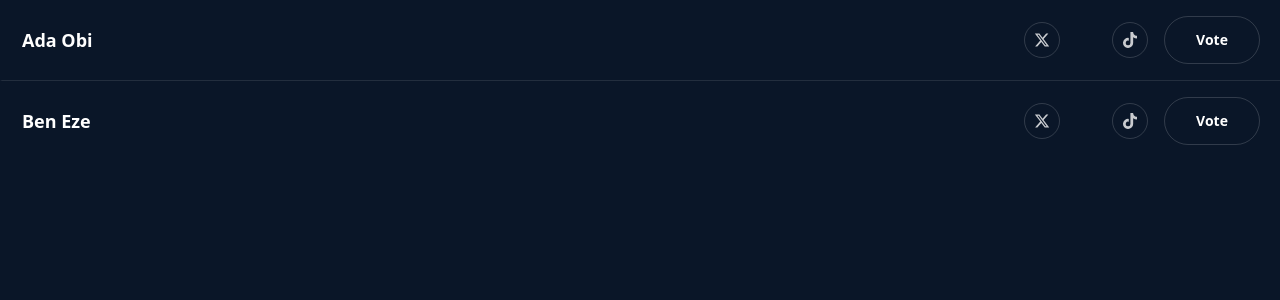
Test: BallotRow › keeps one form open: opening another row closes the first, without moving focus back
This screenshot has width=1280, height=300.
What coordinates should you click on to do the following:
click the button with aria-label "Vote for Ada Obi"
I would click on:
 (1212, 40)
Its box is top-left (1164, 16), bottom-right (1260, 64).
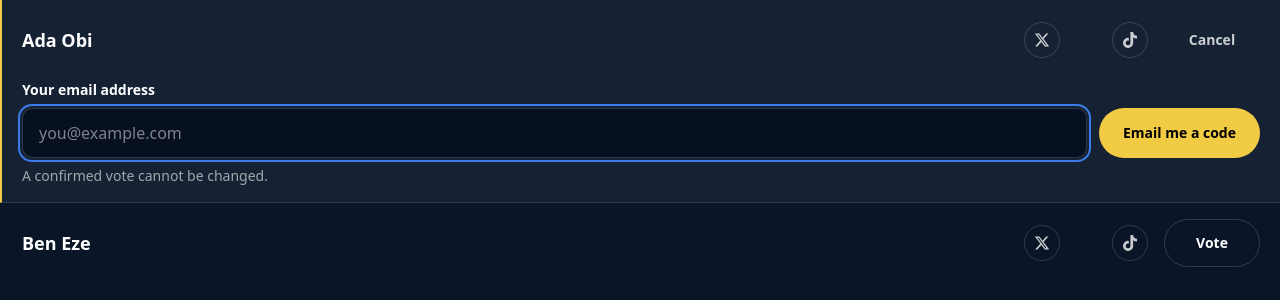
What coordinates should you click on to do the following:
click the button "Vote"
I would click on:
 (1212, 243)
Its box is top-left (1164, 219), bottom-right (1260, 267).
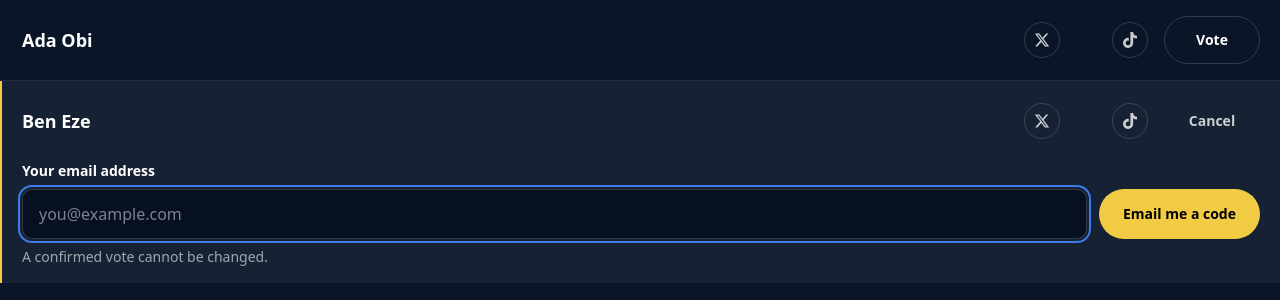
Now the number of fields labelled "Your email address" is 1, box top-left (22, 189), bottom-right (1087, 239)
Now the button with aria-label "Vote for Ada Obi" is shown, box top-left (1164, 16), bottom-right (1260, 64)
